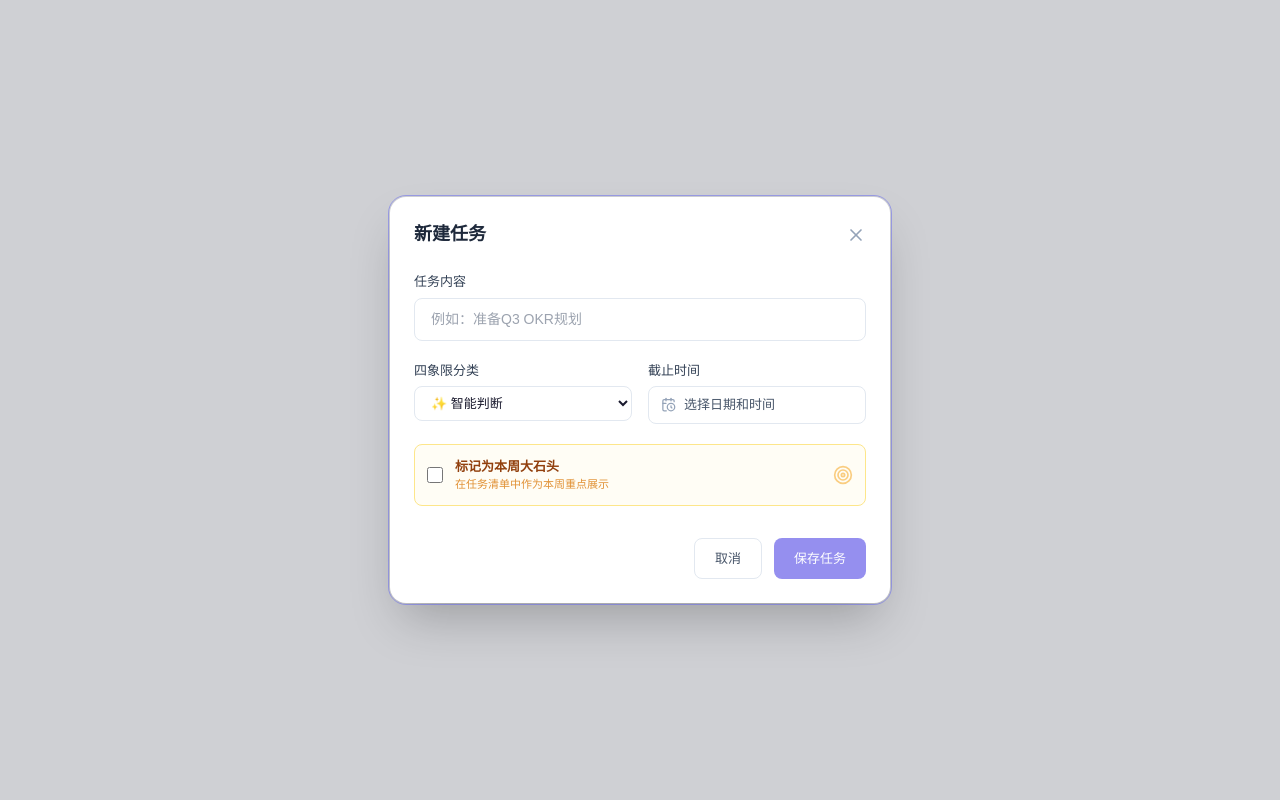
it: TaskModal › 取消时间选择时不写入未完成的草稿
Step 1. Click the button named "截止时间" → x=757, y=405, box [648,386,866,424]
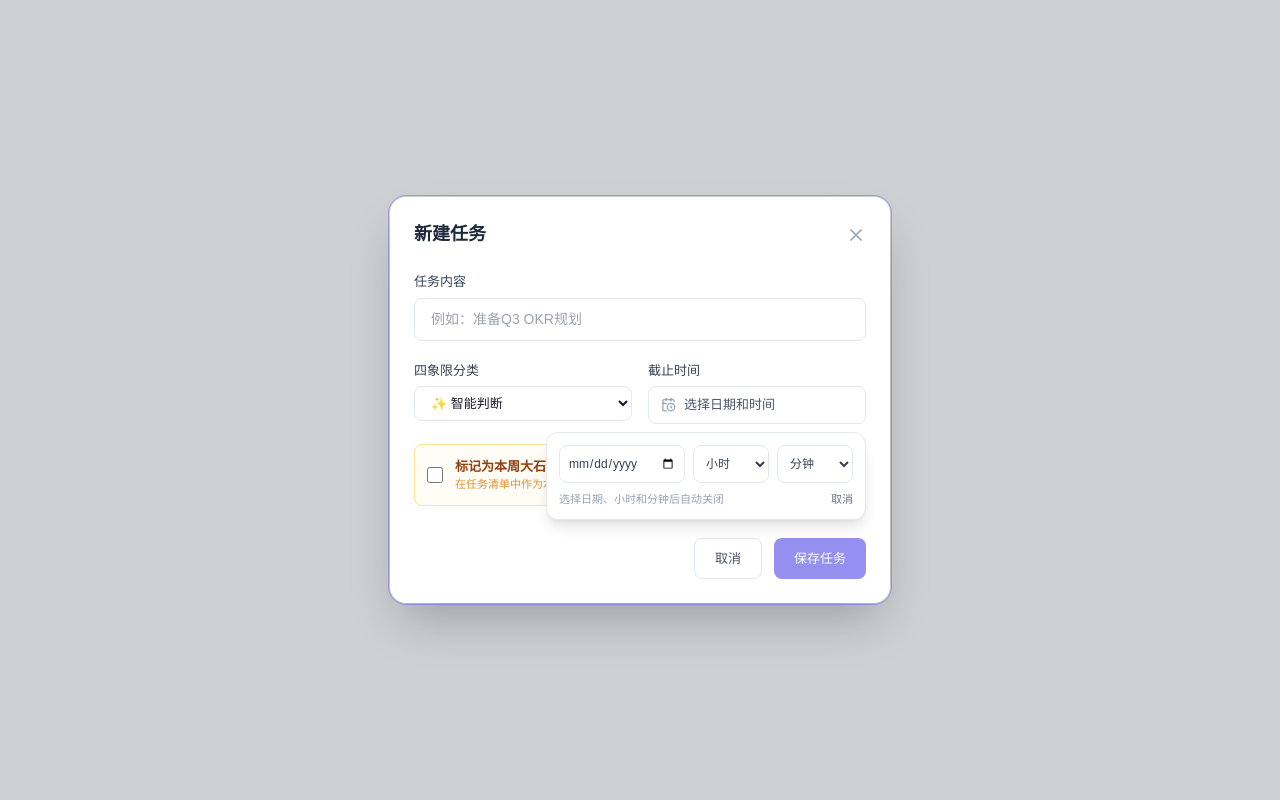
Step 2. Type "2026-08-01" into the date field named "截止日期" → x=622, y=464, box [559,444,685,482]
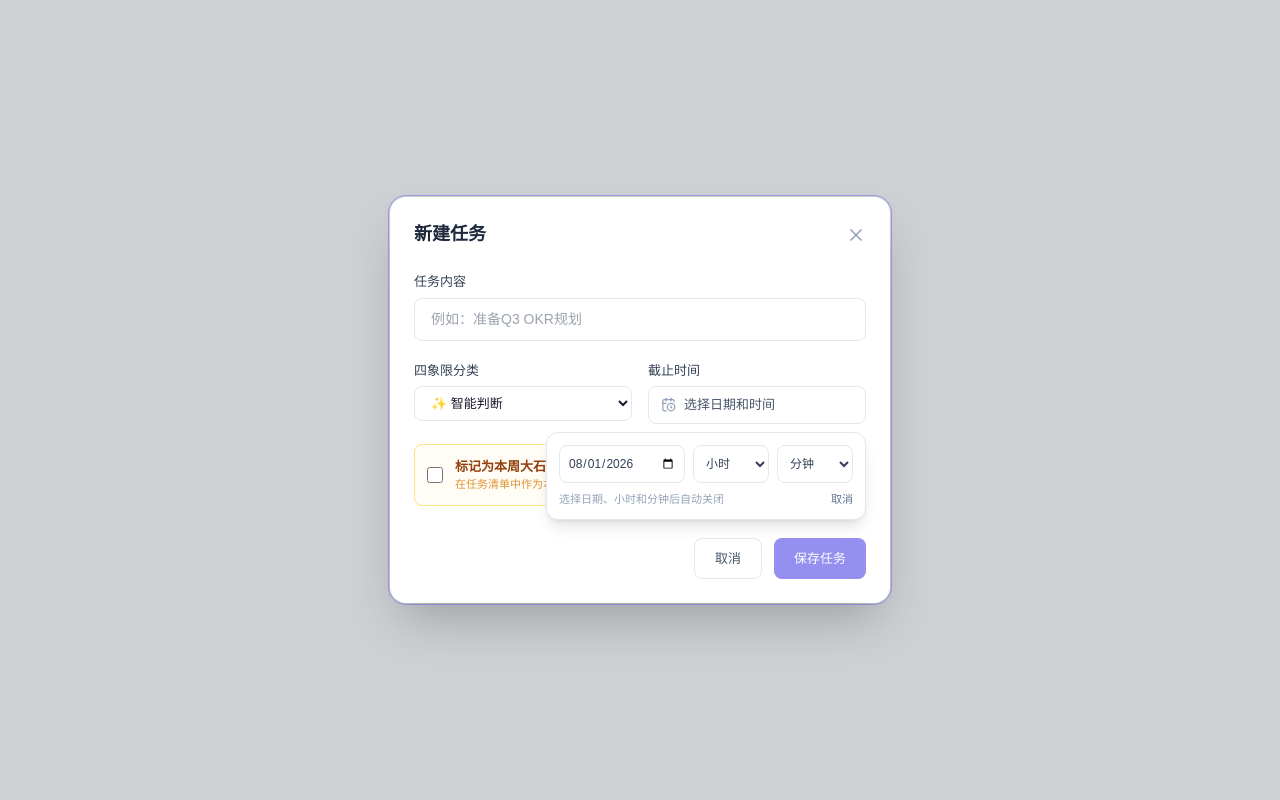
Step 3. Click the button with aria-label "取消时间选择" → x=842, y=499, box [831,490,853,507]
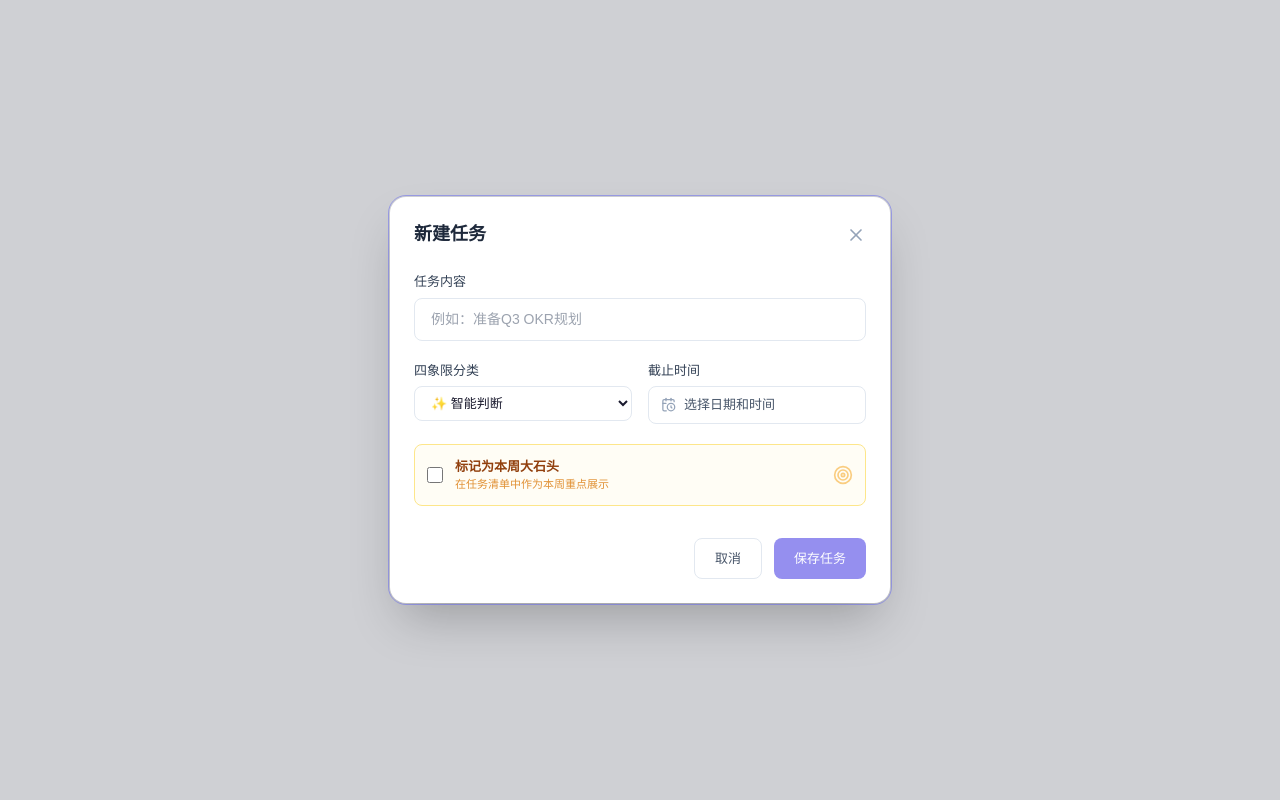
expect the button named "截止时间" reads "选择日期和时间": met, box [648,386,866,424]
expect the dialog "选择截止时间" is gone: met
